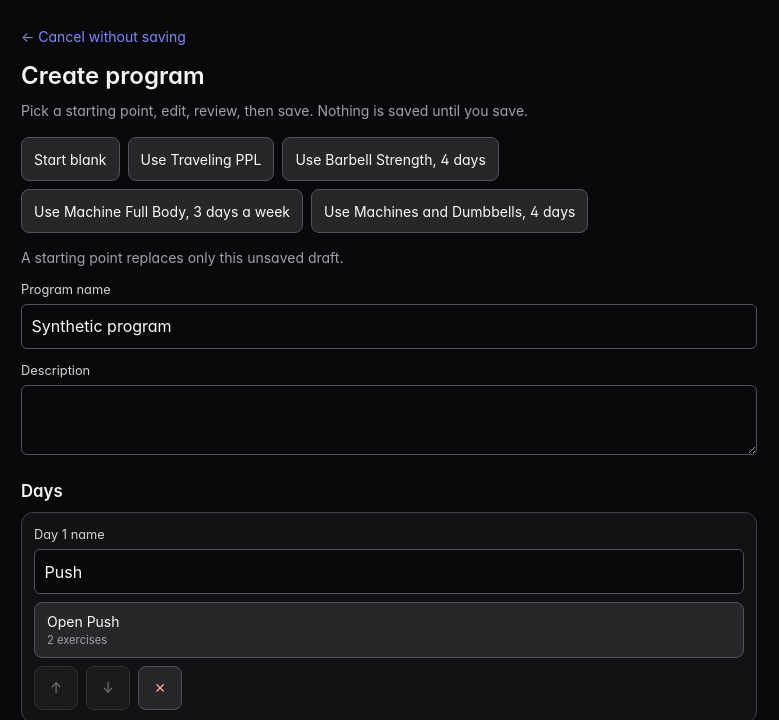
keeps an oversized schema-valid draft editable and unsaveable (source null)
Replace the text in the field labelled "Program name" with "  Keep all my edits  " at x=389, y=326, box [21,304,757,349]
(page scrolled)
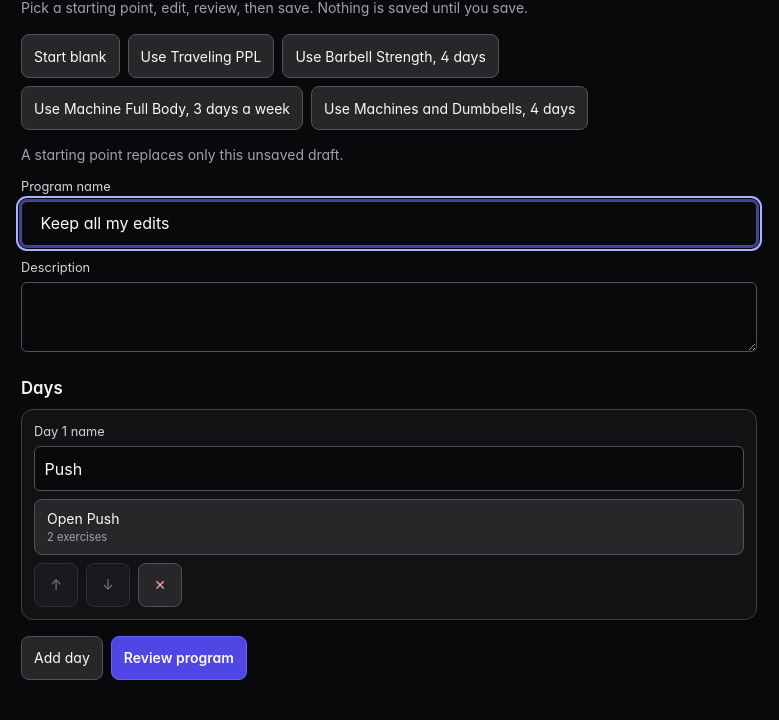
Click the button "Review program" at x=179, y=658, box [111,636,247,680]
(page scrolled)
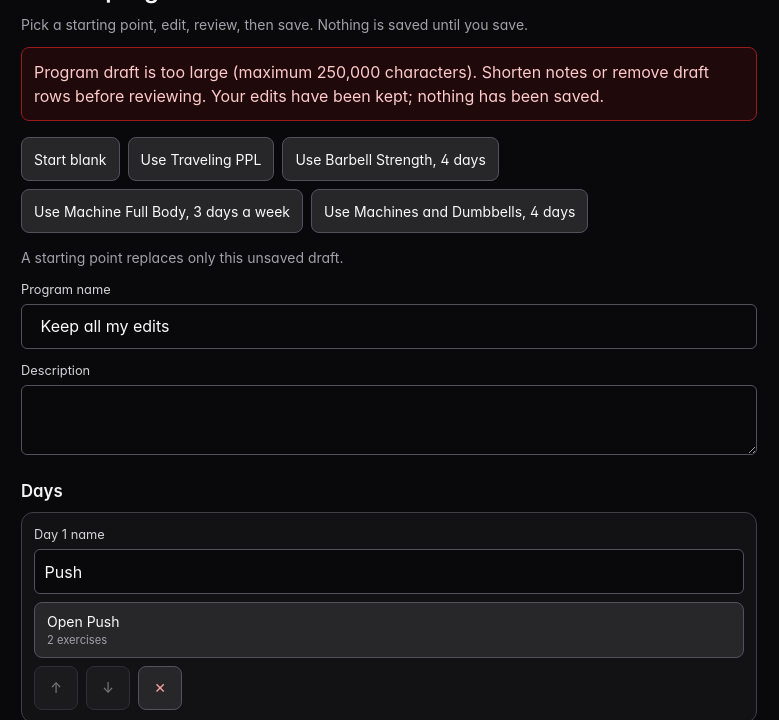
Submit the form
Click the button "Open Push 2 exercises" at x=83, y=622, box [34,602,744,658]
(page scrolled)
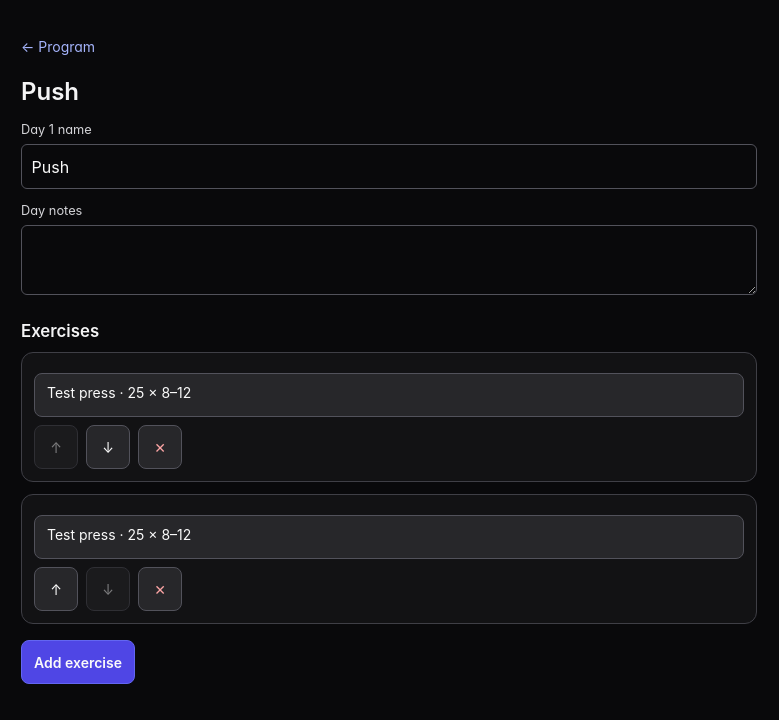
Click the 1st button "✕" at x=160, y=447, box [138,425,182,469]
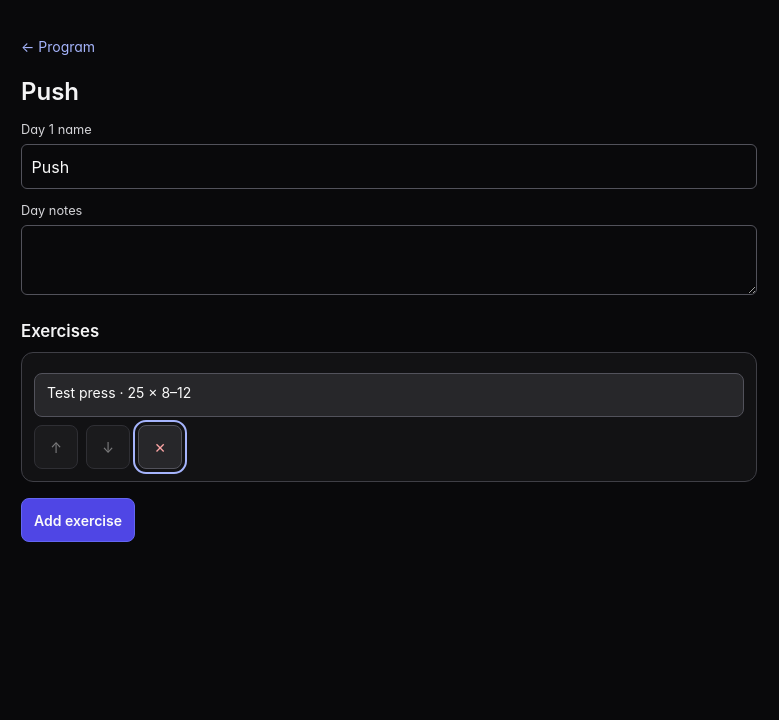
Click the button "← Program" at x=58, y=46, box [21,24,95,68]
(page scrolled)
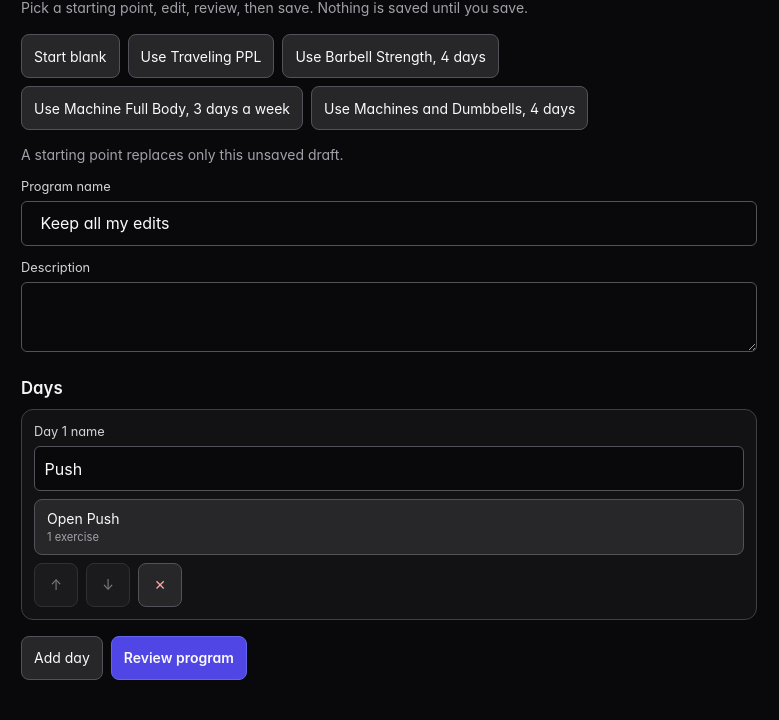
Click the button "Review program" at x=179, y=658, box [111,636,247,680]
(page scrolled)
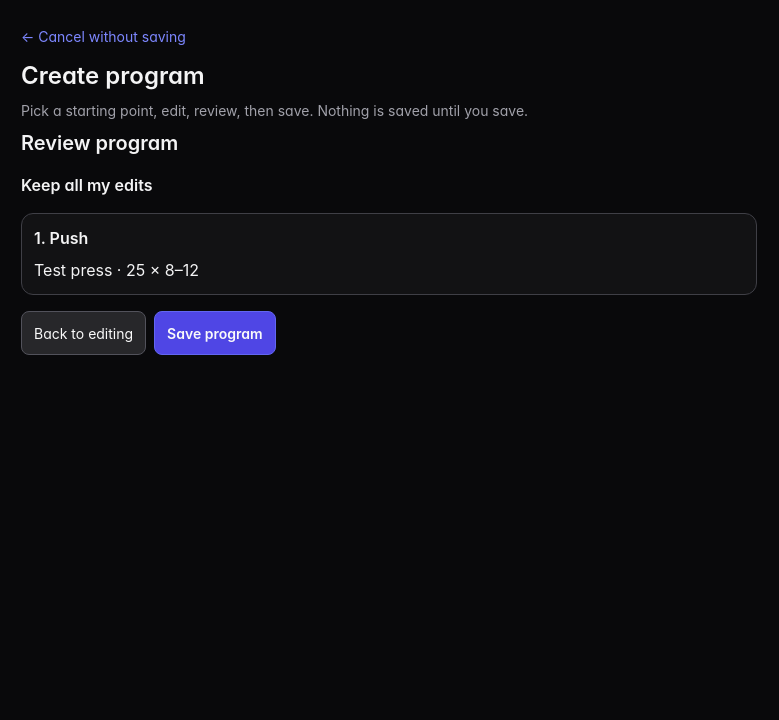
Check: the button "Save program" is shown, box [154,311,276,355]
